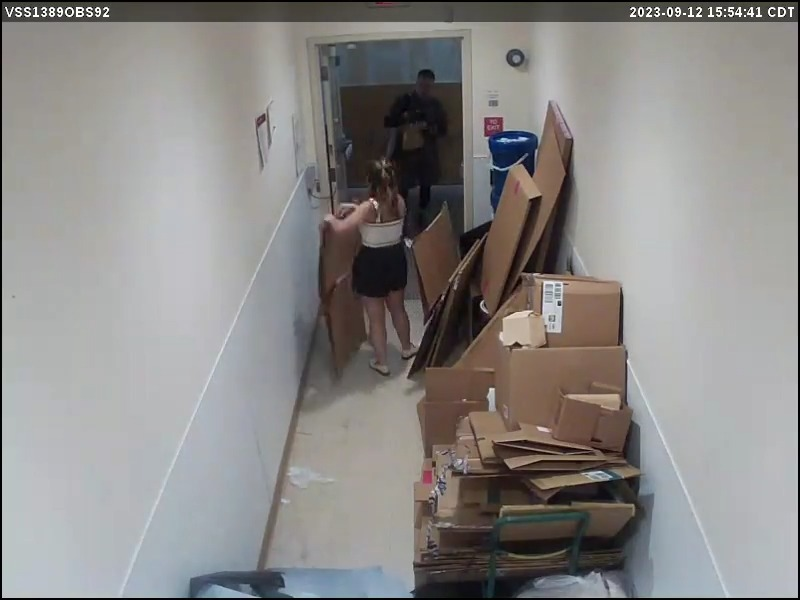No-gloves: (328, 190, 355, 218), (316, 211, 338, 235)
